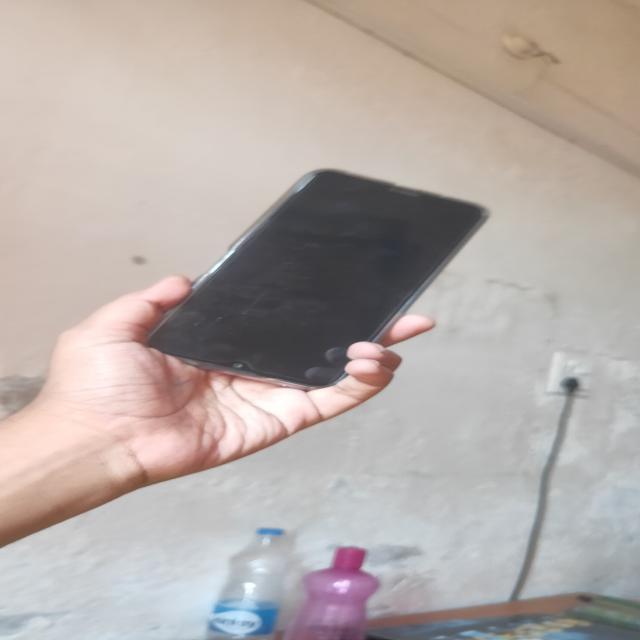Phone: (149, 165, 554, 408)
